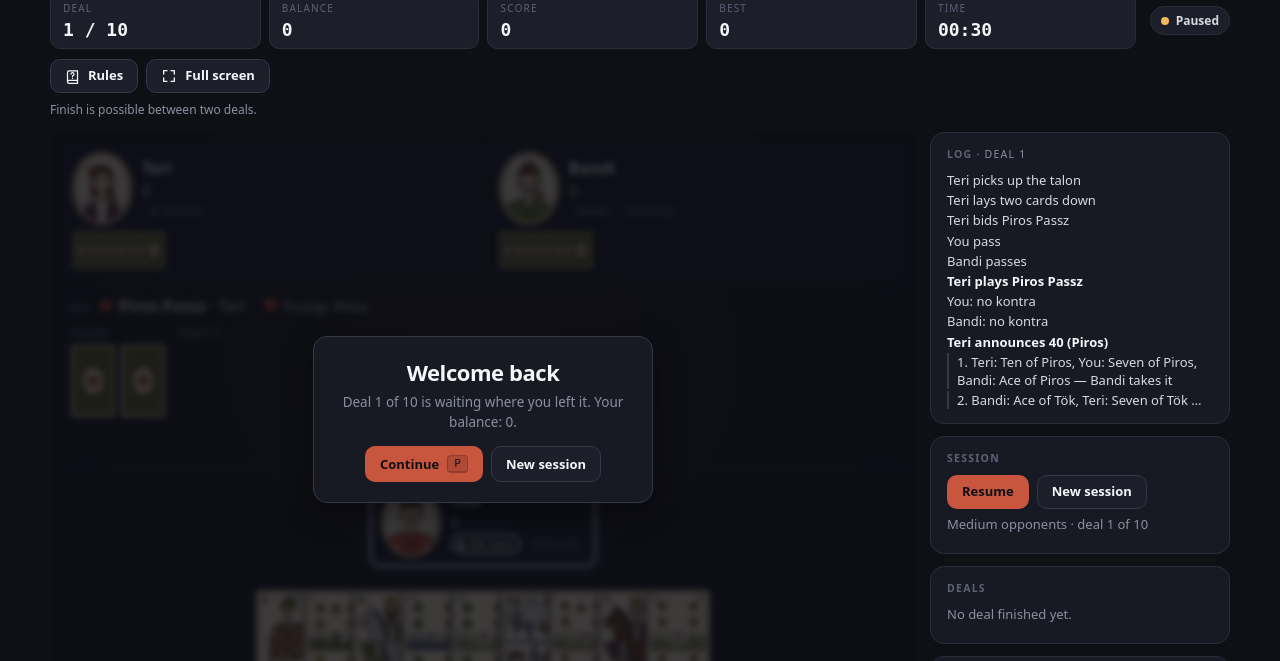
Test: dental mode › toggling dental mode mid-deal keeps the deal, the faces and the clock
Press p
(page scrolled)
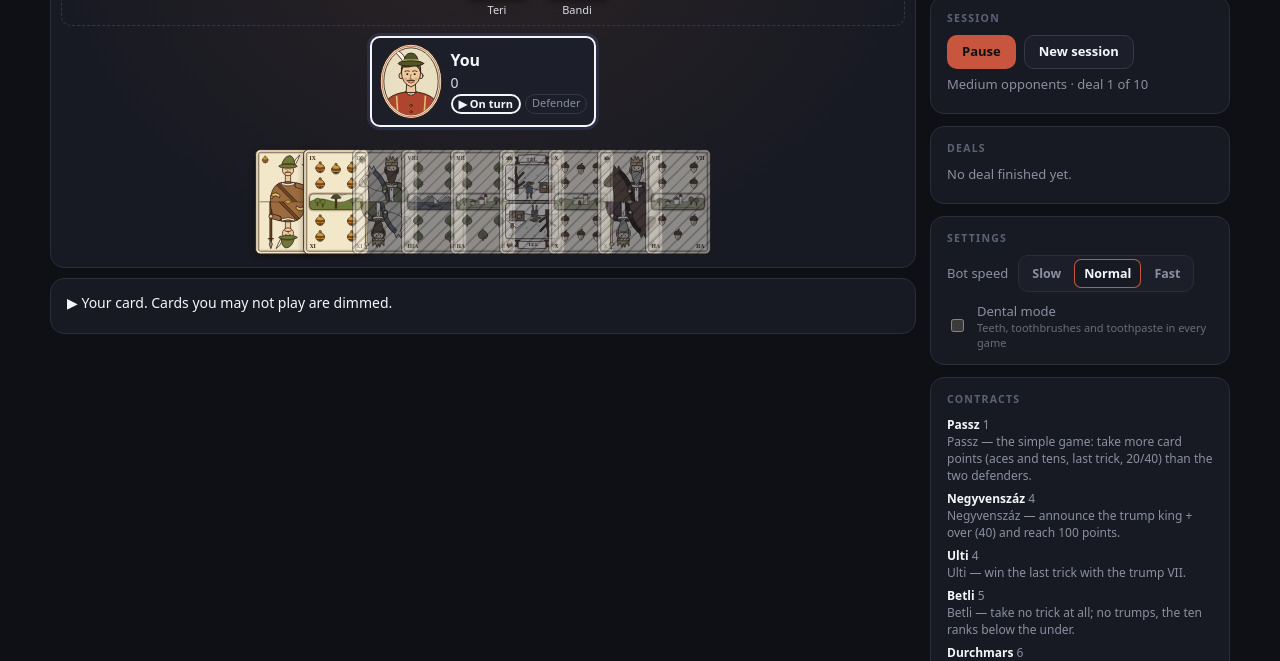
Click the checkbox labelled "Dental mode Teeth, toothbrushes and toothpaste in every game" at [958, 326], box top-left (951, 319), bottom-right (964, 332)
(page scrolled)
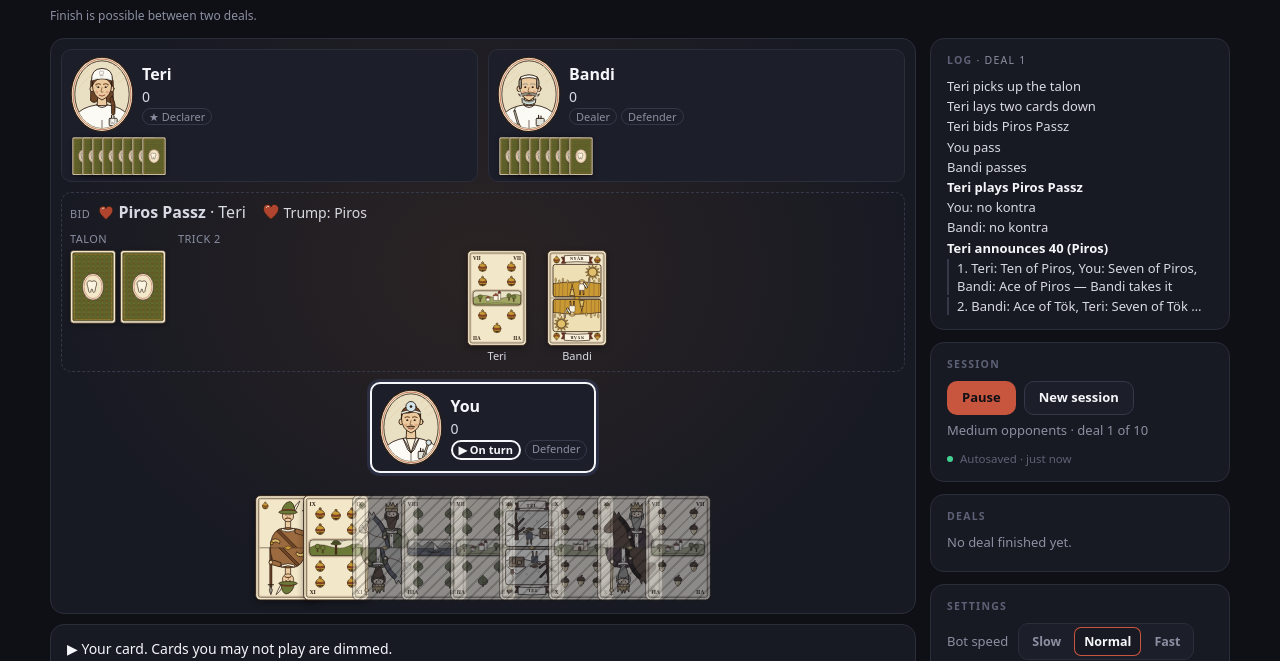
Expected: the number of pictures with test id "ulti-figure-dental" is 3, top-left (70, 56), bottom-right (134, 133); top-left (497, 56), bottom-right (561, 133); top-left (378, 389), bottom-right (442, 466)
